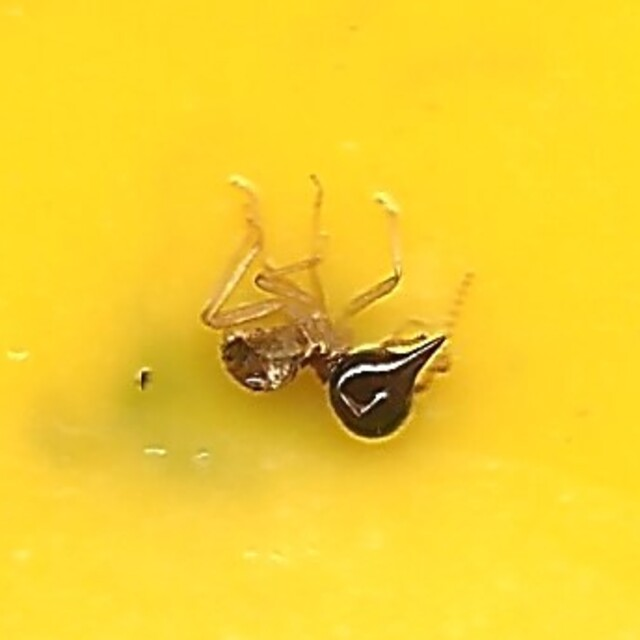Isoptera: (186, 196, 454, 444)
